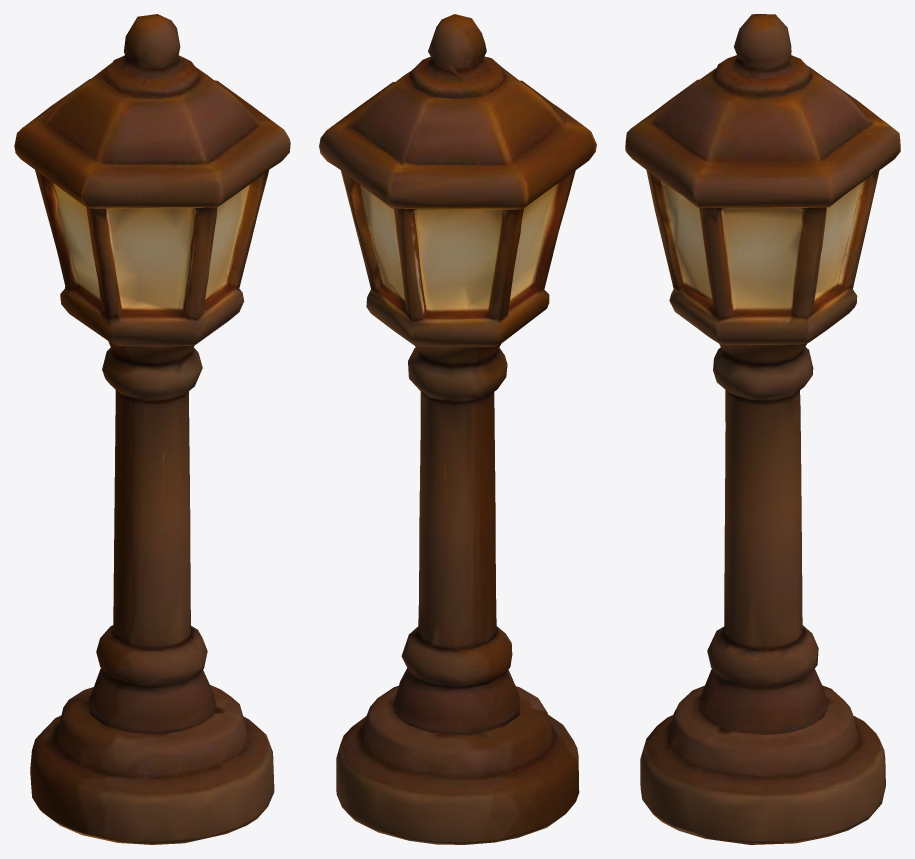
Rendered from streetlamp.glb.
The picture shows the model from 3 angles, left to right: view 1: azimuth 30°, elevation 25°; view 2: azimuth 150°, elevation 25°; view 3: azimuth 270°, elevation 25°; orthographic projection.
Visible parts, largest first — view 1: textured_mesh.obj; view 2: textured_mesh.obj; view 3: textured_mesh.obj.
Part boxes in pixels (x1,y1,x2,y2): textured_mesh.obj: (14, 14, 290, 844); textured_mesh.obj: (319, 14, 596, 844); textured_mesh.obj: (625, 14, 900, 844).
Size of what is drawn, in the model's own units: 0.6801 by 2.4 by 0.7668.
1 material, 1 textured.
